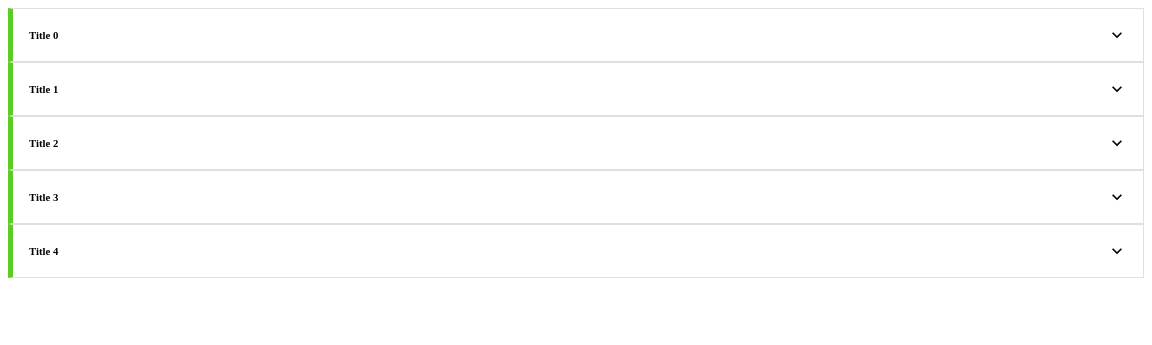
Test: opens accordion with click
Click the button "Title 4": [44, 251] box [29,241,1127,261]
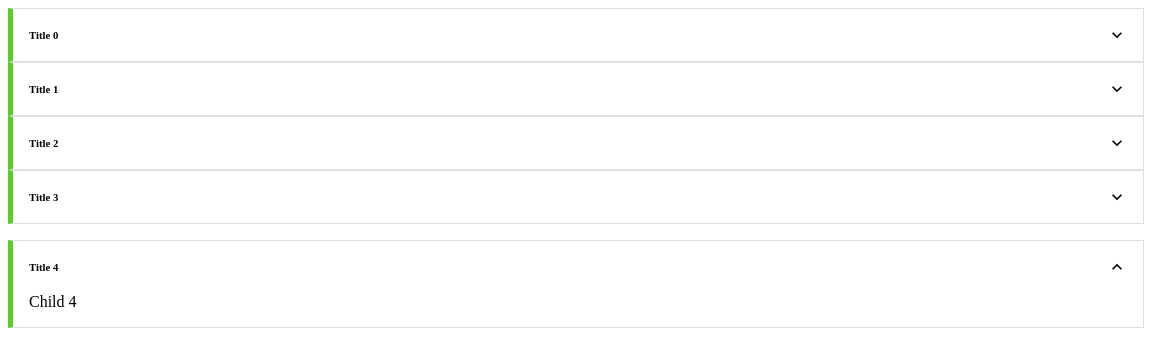
Result: the text "Child 4" is shown at [29,293,77,310]
